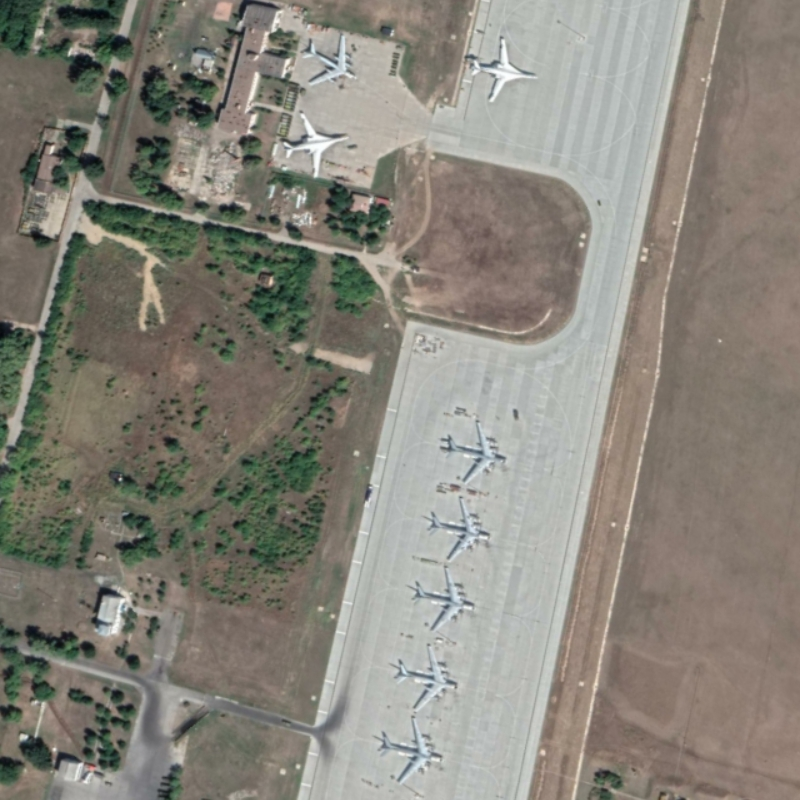A17: (425, 494, 495, 565), (391, 639, 461, 710), (377, 712, 445, 785), (441, 419, 510, 490), (409, 565, 480, 634), (297, 31, 359, 88)
A6: (278, 107, 351, 183), (465, 34, 540, 106)
